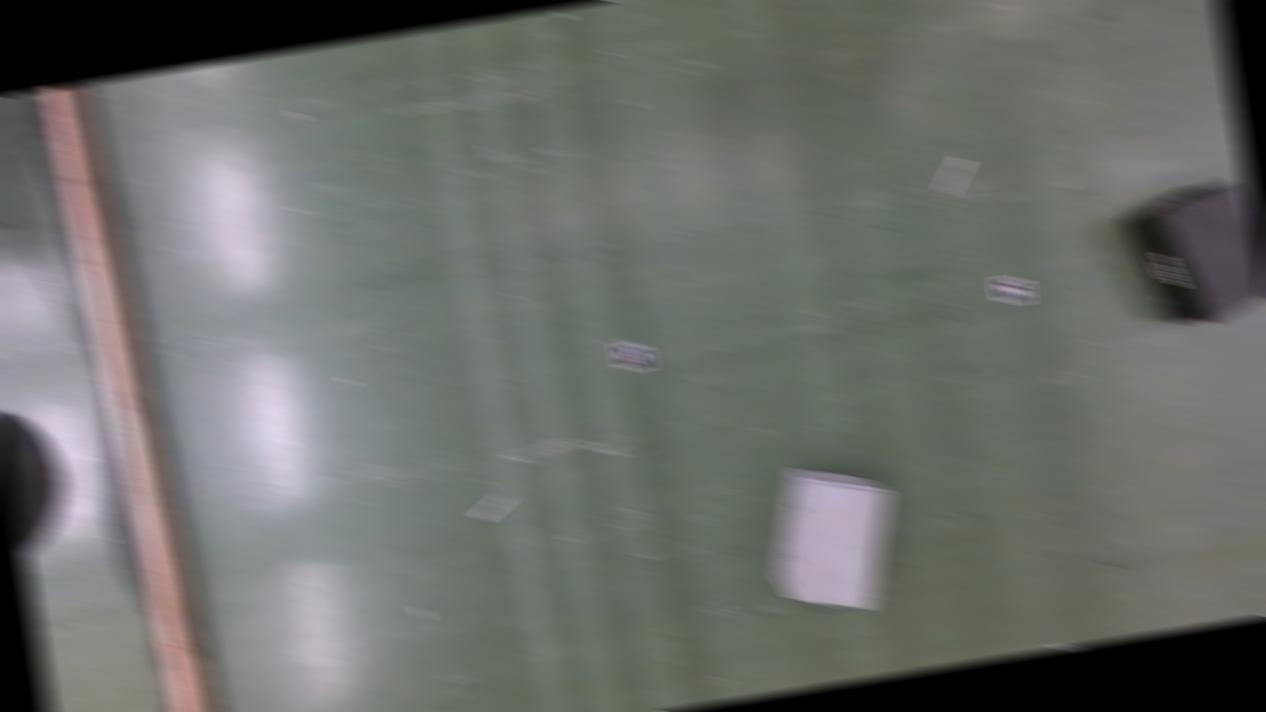probes: (935, 156, 974, 196), (473, 490, 518, 522)
rako: (755, 452, 908, 622), (1116, 176, 1266, 334)
